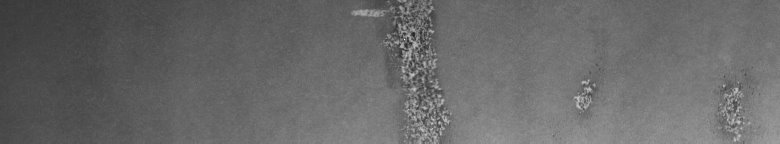hc: (351, 4, 455, 136)
